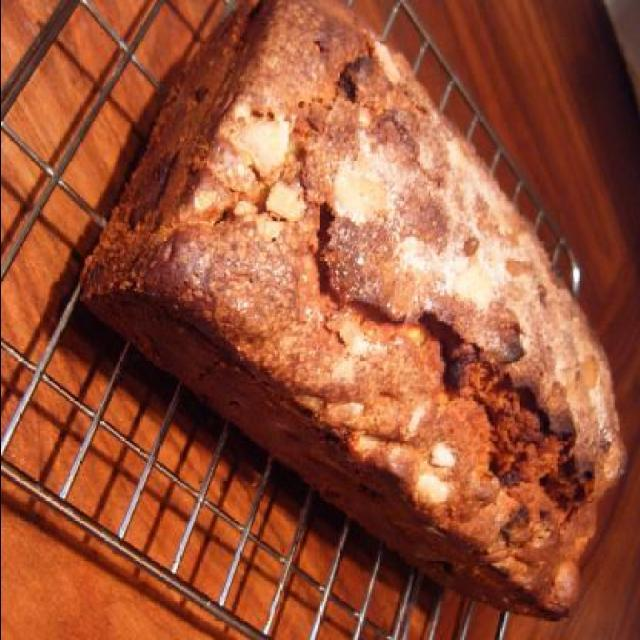Bread: (157, 34, 572, 634)
